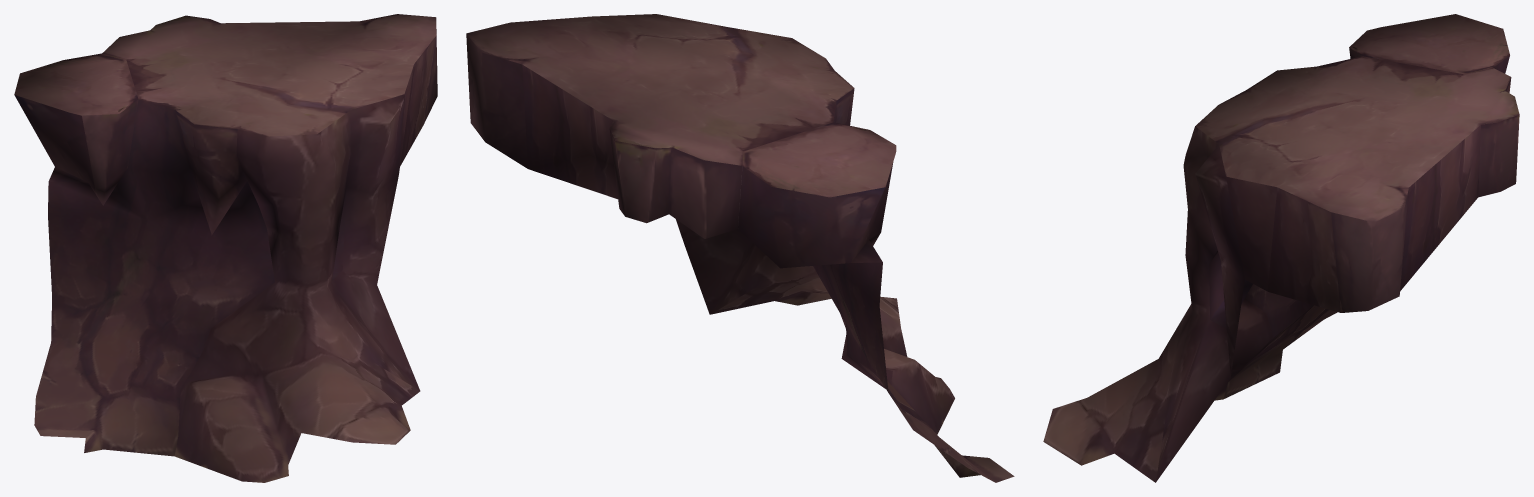
Rendered from huoshan_4.FBX.
3 views of the same model, side by side, from view 1: azimuth 30°, elevation 25°; view 2: azimuth 150°, elevation 25°; view 3: azimuth 270°, elevation 25° (orthographic). The views are drawn at different scales.
Parts seen in each view (by area): view 1: huoshan_4; view 2: huoshan_4; view 3: huoshan_4.
Boxes of the visible parts, bbox=[...] form: huoshan_4: bbox=[14, 14, 437, 482]; huoshan_4: bbox=[466, 14, 1014, 482]; huoshan_4: bbox=[1043, 14, 1519, 482].
Size of the model in its own units: 1141 by 799 by 948.
